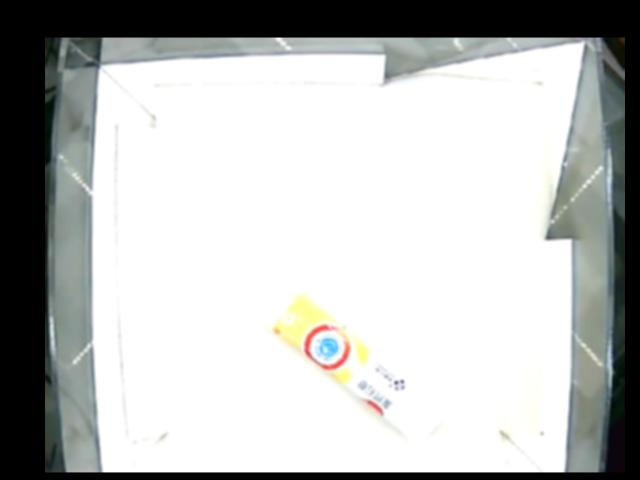Medicine: (254, 283, 448, 439)
